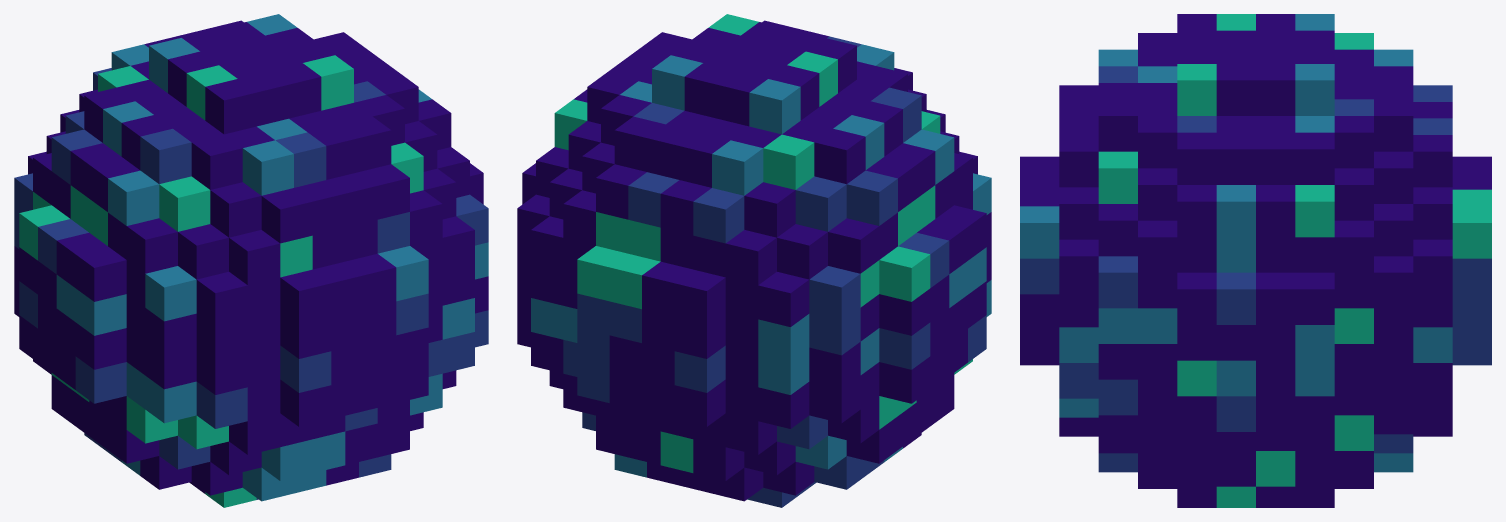
Rendered from planetas-12-azulverde.obj.
3 renders of one model, left to right at view 1: azimuth 30°, elevation 25°; view 2: azimuth 150°, elevation 25°; view 3: azimuth 270°, elevation 25°, orthographic. The views are drawn at different scales.
Size of the model in its own units: 1.2 by 1.2 by 1.2.
Materials: 1 (1 with a texture image).
